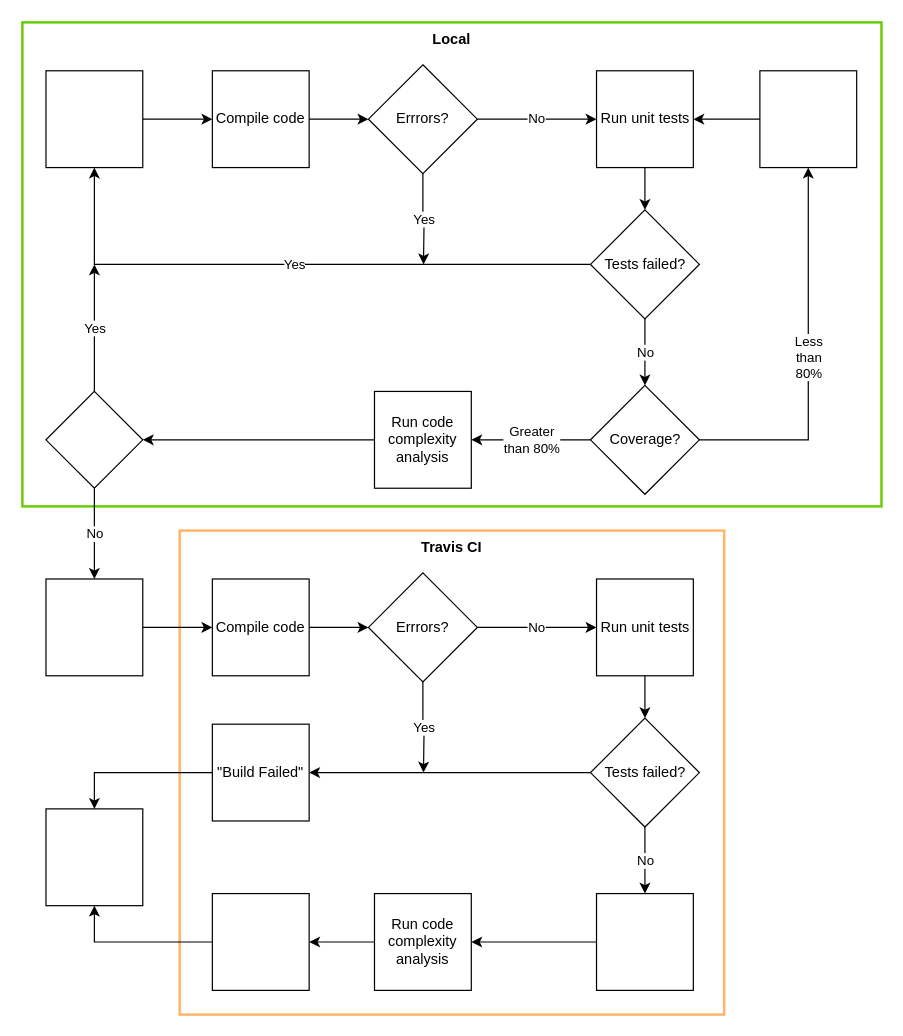
Some shapes in this 903 by 1036 pixel diagram are drawn without their labels. Here are the shapes that lost their labels. From the top down, the centre of each, then its label:
point 94,119: Write code
point 808,119: Write unit tests
point 94,439: Warnings?
point 94,627: Push to GitHub
point 94,857: Send email report
point 260,941: "Build Passed"
point 644,941: Push coverage report to coveralls
